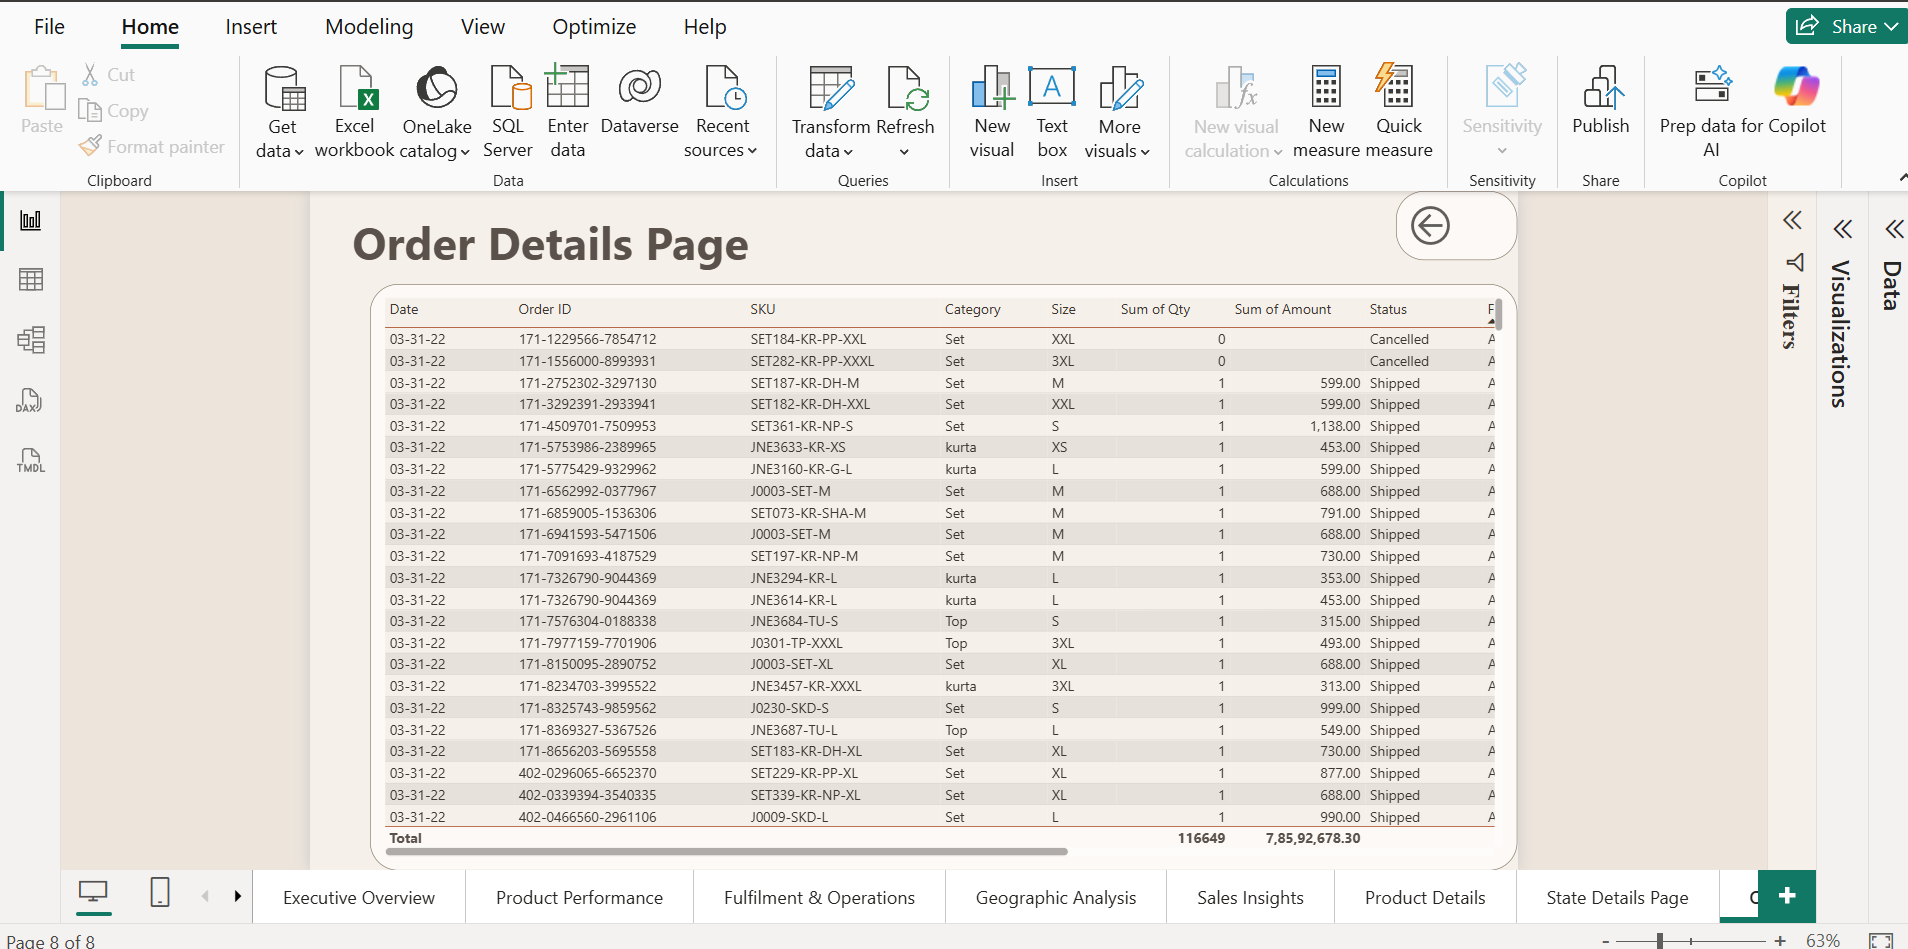

The page's visual inventory and layout, read from the dashboard file:
{"tool":"powerbi","page":{"name":"Order Details Page","canvas":[1280,720],"ordinal":7},"visuals":[{"type":"actionButton","box":[1151.6,0,128.8,73.2],"z":0},{"type":"textbox","box":[39.8,15.9,540.8,87.5],"z":1000},{"type":"tableEx","fields":{"Values":["amazon_sales_cleaned.Date","amazon_sales_cleaned.Order ID","amazon_sales_cleaned.SKU","amazon_sales_cleaned.Category","amazon_sales_cleaned.Size","Sum(amazon_sales_cleaned.Qty)","Sum(amazon_sales_cleaned.Amount)","amazon_sales_cleaned.Status","amazon_sales_cleaned.Fulfilment","amazon_sales_cleaned.Courier Status","amazon_sales_cleaned.ship-state","amazon_sales_cleaned.ship-city"]},"box":[63.6,98.6,1216.8,621.9],"z":2000}]}

Visuals, with their boxes on the page's 1280x720 design canvas (x1, y1, x2, y2). These are canvas units, not pixel positions in the 1908x949 screenshot, which may show the page scaled, cropped or inside an application window:
actionButton: select_region(1152, 0, 1280, 73)
textbox: select_region(40, 16, 581, 103)
tableEx - amazon_sales_cleaned.Date x amazon_sales_cleaned.Order ID: select_region(64, 99, 1280, 720)
